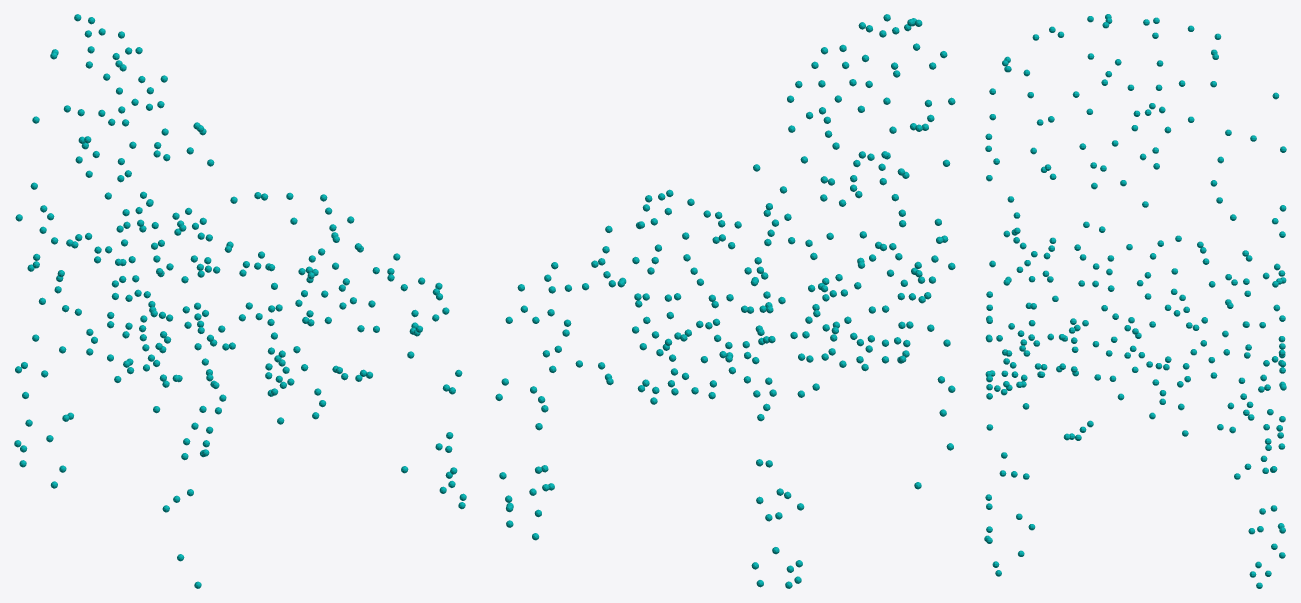
3 renders of one model, left to right at view 1: azimuth 30°, elevation 25°; view 2: azimuth 150°, elevation 25°; view 3: azimuth 270°, elevation 25°, orthographic. The views are drawn at different scales.
Size of the model in its own units: 0.6386 by 1.03 by 0.6204.
